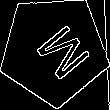M_SW: (21, 16, 87, 84)
